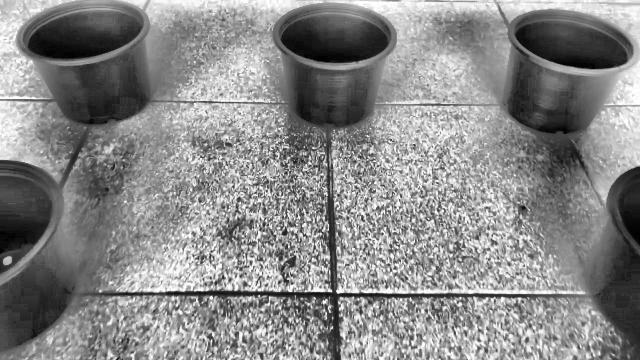pot: (500, 10, 640, 135), (16, 0, 152, 126), (273, 3, 398, 128)
